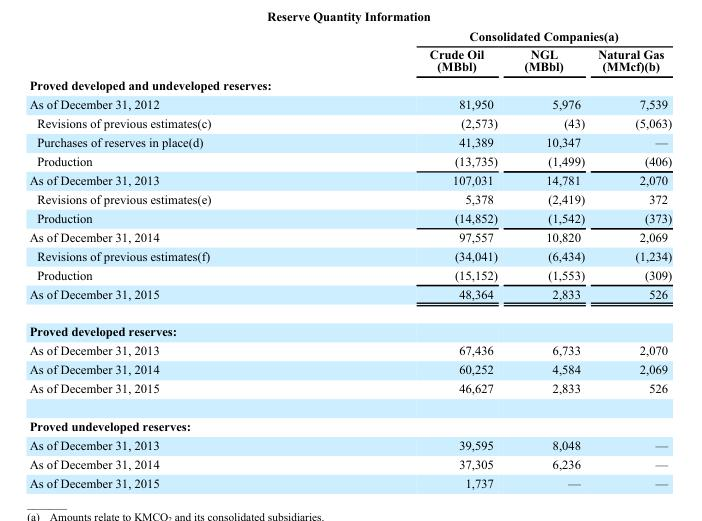table: (28, 28, 671, 489)
table column: (28, 28, 319, 489), (319, 28, 510, 489), (590, 28, 671, 489), (510, 28, 590, 489)
table column header: (28, 28, 671, 75)
table projected row header: (28, 406, 671, 435), (28, 312, 671, 340), (28, 75, 671, 94)
table row: (28, 44, 671, 75), (28, 283, 671, 312), (28, 406, 671, 435), (28, 312, 671, 340), (28, 378, 671, 406), (28, 75, 671, 94), (28, 94, 671, 113), (28, 113, 671, 132), (28, 132, 671, 151), (28, 151, 671, 170), (28, 170, 671, 189), (28, 189, 671, 208), (28, 208, 671, 227), (28, 245, 671, 264), (28, 264, 671, 283), (28, 340, 671, 359), (28, 359, 671, 378), (28, 435, 671, 454), (28, 454, 671, 473), (28, 227, 671, 245), (28, 28, 671, 44), (28, 473, 671, 489)
table spanning cell: (319, 28, 671, 44)
